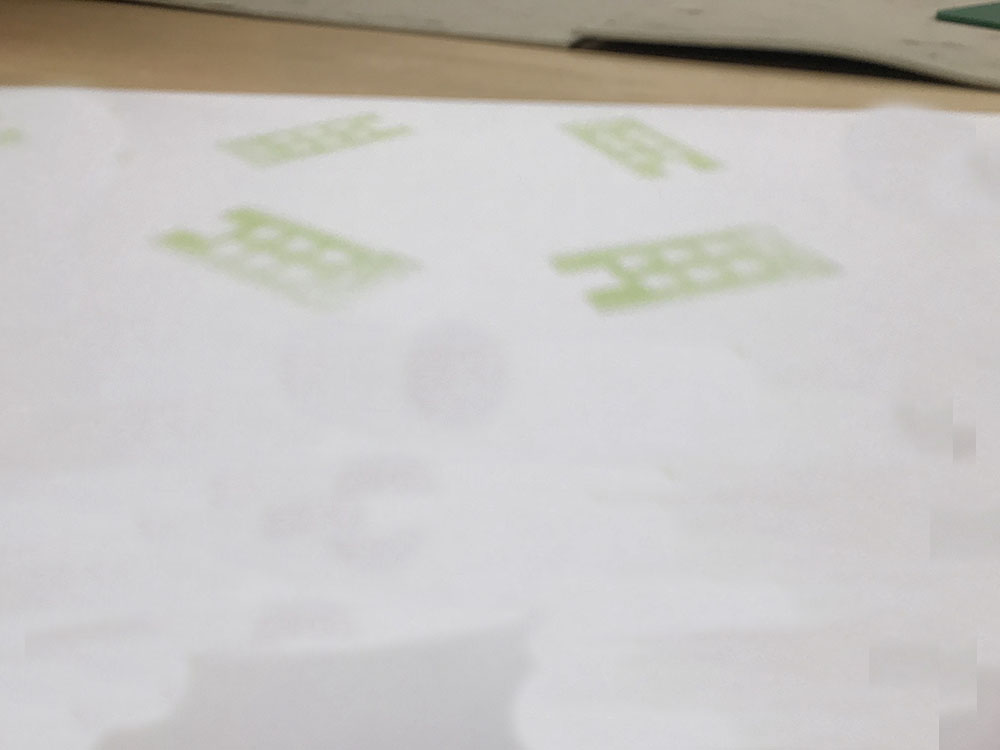build: (537, 206, 872, 334), (146, 194, 439, 319), (207, 101, 429, 183), (544, 108, 737, 196)
